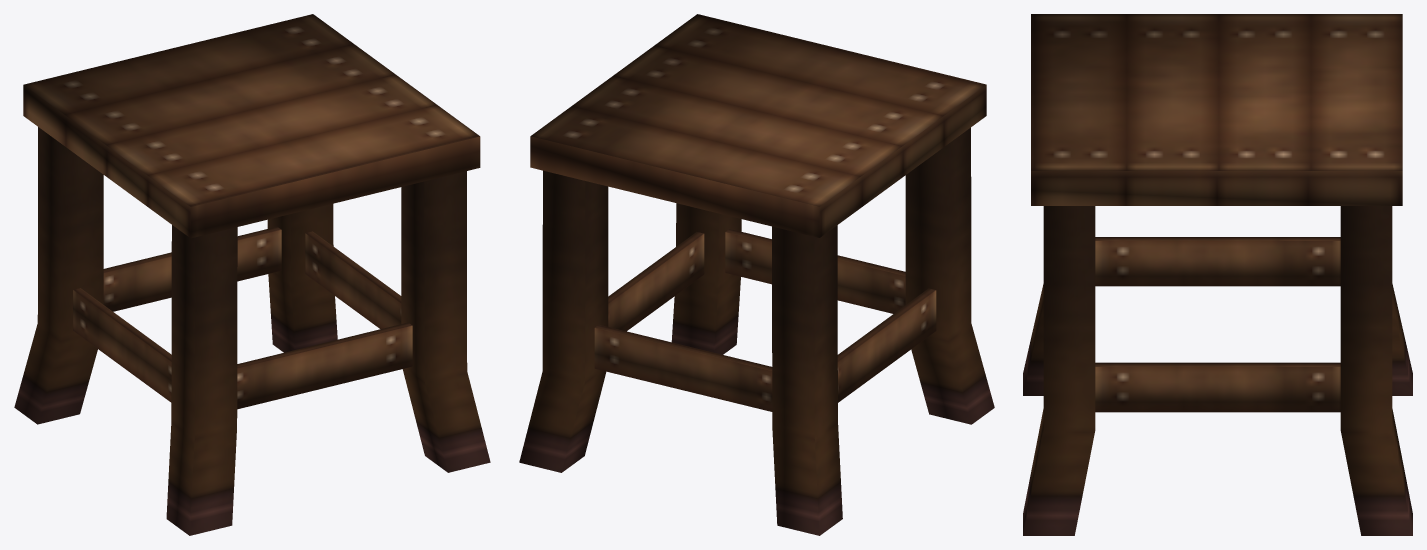
Rendered from c_SCchair03.glb.
The picture shows the model from 3 angles, left to right: view 1: azimuth 30°, elevation 25°; view 2: azimuth 150°, elevation 25°; view 3: azimuth 270°, elevation 25°; orthographic projection. The views are drawn at different scales.
Visible parts, largest first — view 1: c_SCchair03; view 2: c_SCchair03; view 3: c_SCchair03.
Boxes of the visible parts, box(x1,y1,x2,y2) form: c_SCchair03: box(14, 14, 490, 535); c_SCchair03: box(519, 14, 994, 535); c_SCchair03: box(1023, 14, 1412, 535).
Size of the model in its own units: 0.4156 by 0.4291 by 0.4194.
Materials: 1 (1 with a texture image).
